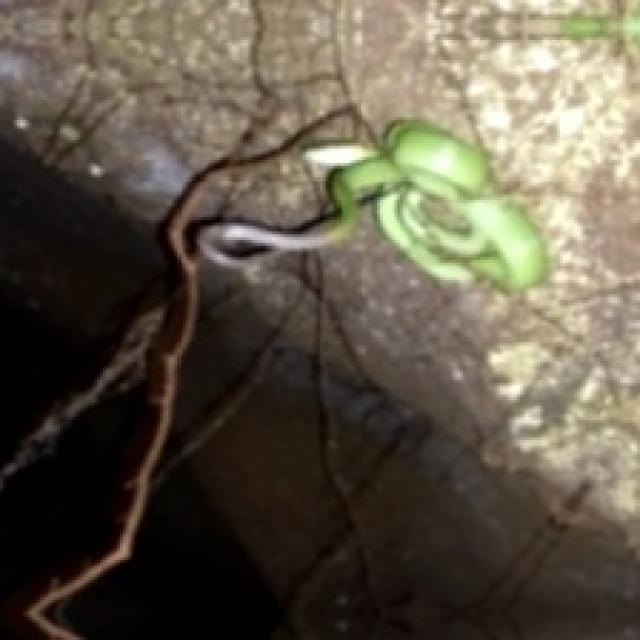red-tailed green ratsnake: (191, 120, 548, 292)
